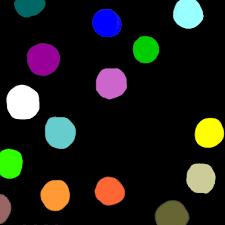cell: (44, 115, 77, 150), (95, 68, 129, 101), (7, 85, 41, 118), (27, 43, 60, 75), (40, 179, 71, 212), (172, 0, 205, 29), (193, 118, 223, 148), (186, 164, 217, 193), (95, 176, 126, 204), (91, 9, 121, 37), (155, 201, 191, 224), (132, 35, 160, 64), (0, 149, 24, 177), (14, 0, 45, 17), (0, 194, 11, 224)
